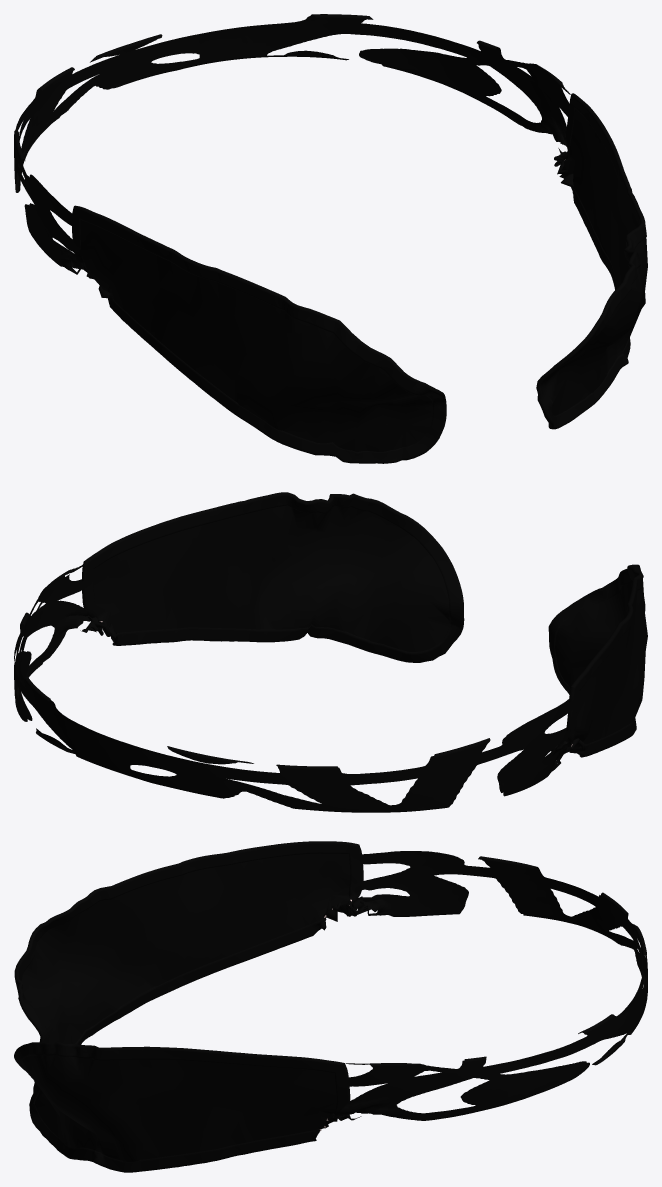
The model's file is A_Glasses.fbx.
The picture shows the model from 3 angles, top to bottom: view 1: azimuth 30°, elevation 25°; view 2: azimuth 150°, elevation 25°; view 3: azimuth 270°, elevation 25°; orthographic projection. The views are drawn at different scales.
Visible parts, largest first — view 1: Acs_Glasses; view 2: Acs_Glasses; view 3: Acs_Glasses.
Part boxes in pixels (x1,y1,x2,y2): Acs_Glasses: (14,14,647,463); Acs_Glasses: (14,492,647,812); Acs_Glasses: (14,841,647,1172).
Size of the model in its own units: 0.1769 by 0.0621 by 0.2146.
Materials: 4 (1 with a texture image).
